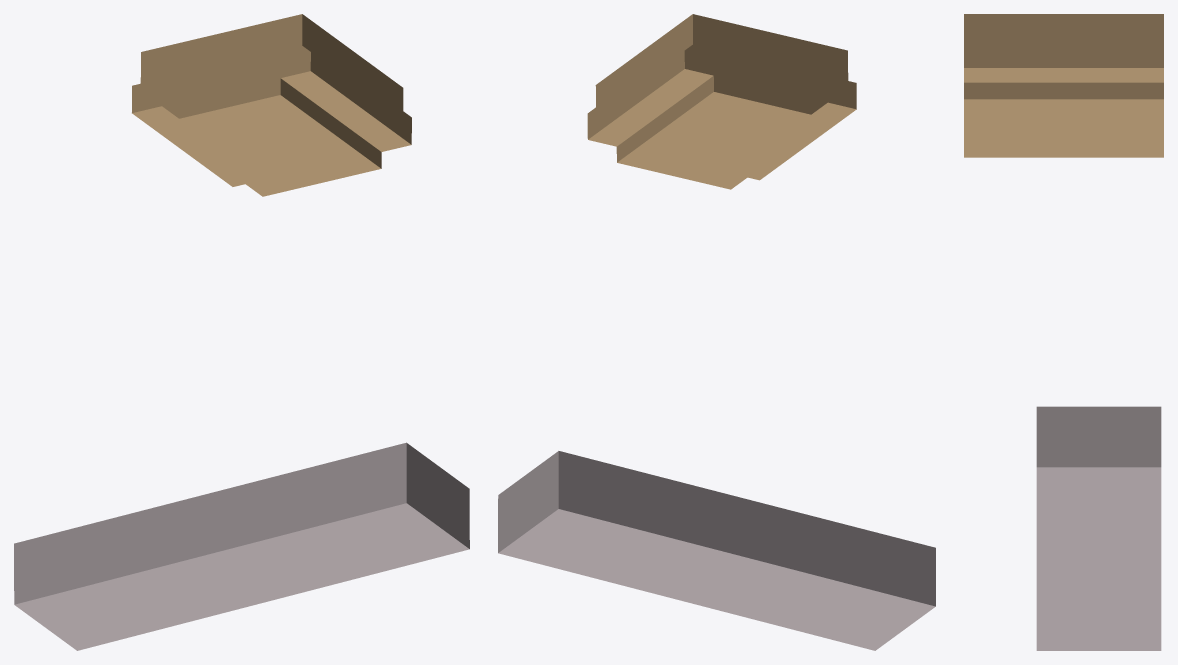
The picture shows the model from 3 angles, left to right: view 1: azimuth 30°, elevation 25°; view 2: azimuth 150°, elevation 25°; view 3: azimuth 270°, elevation 25°; orthographic projection. The views are drawn at different scales.
Visible parts, largest first — view 1: 0_3_1_3_0_3_3_0; view 2: 0_3_1_3_0_3_3_0; view 3: 0_3_1_3_0_3_3_0.
Boxes of the visible parts, box(x1,y1,x2,y2) form: 0_3_1_3_0_3_3_0: box(14, 14, 469, 650); 0_3_1_3_0_3_3_0: box(498, 14, 935, 650); 0_3_1_3_0_3_3_0: box(964, 14, 1163, 650).
Bounding box in the file's own units: 53.87 × 68.26 × 24.
